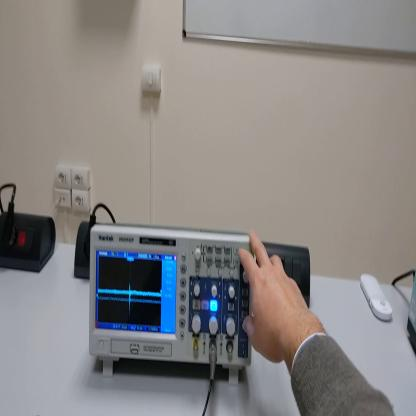hand: (237, 233, 315, 365)
oscilloscope: (90, 227, 255, 390)
socket: (1, 212, 57, 274), (75, 221, 90, 280)
welder station: (408, 276, 415, 358)
